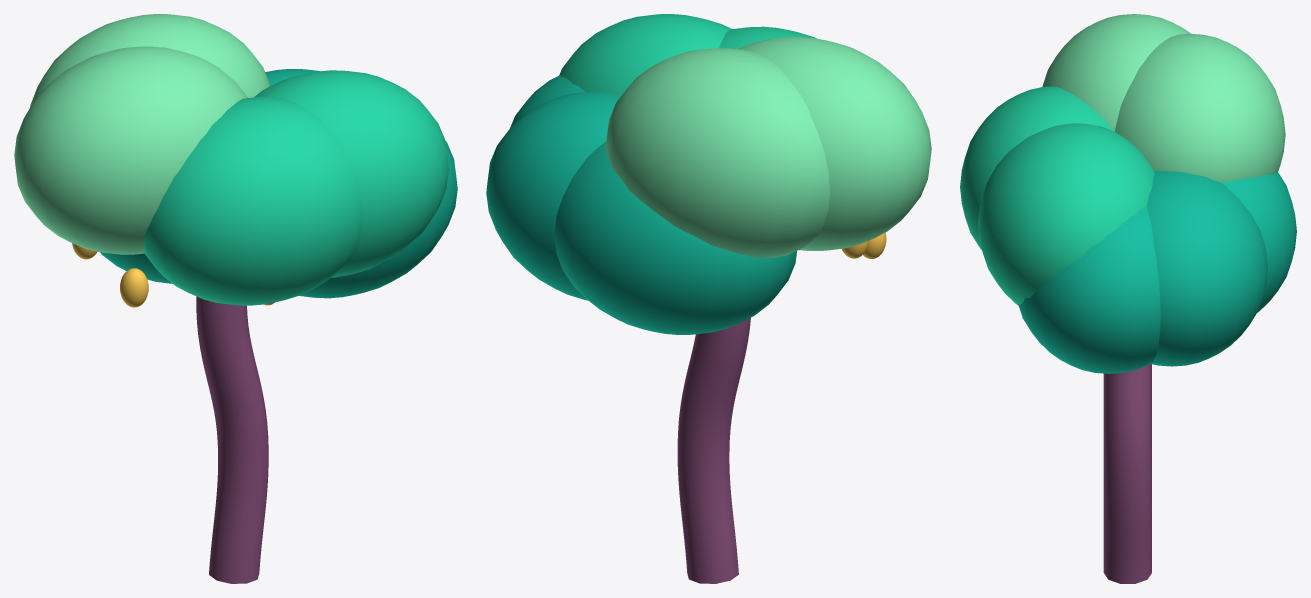
File: tree.glb
3 views of the same model, side by side, from view 1: azimuth 30°, elevation 25°; view 2: azimuth 150°, elevation 25°; view 3: azimuth 270°, elevation 25° (orthographic). The views are drawn at different scales.
Visible parts, largest first — view 1: Curving trunk; view 2: Curving trunk; view 3: Curving trunk.
Part boxes in pixels (x1=…): Curving trunk: x1=14, y1=14, x2=457, y2=583; Curving trunk: x1=486, y1=14, x2=931, y2=583; Curving trunk: x1=960, y1=14, x2=1296, y2=583.
Size of the model in its own units: 4.56 by 5.76 by 3.49.
